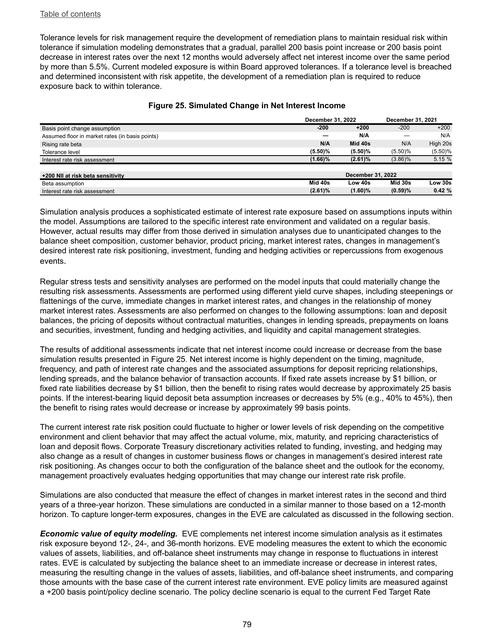box: (38, 101, 455, 198)
